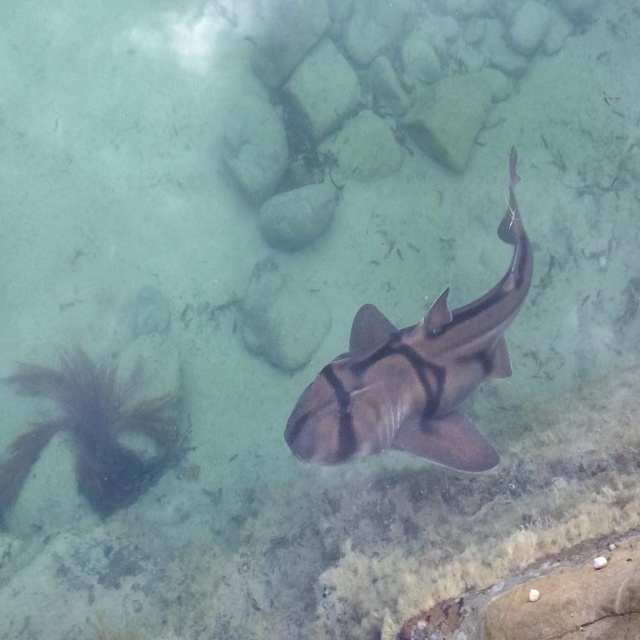Shark: (284, 149, 534, 475)
